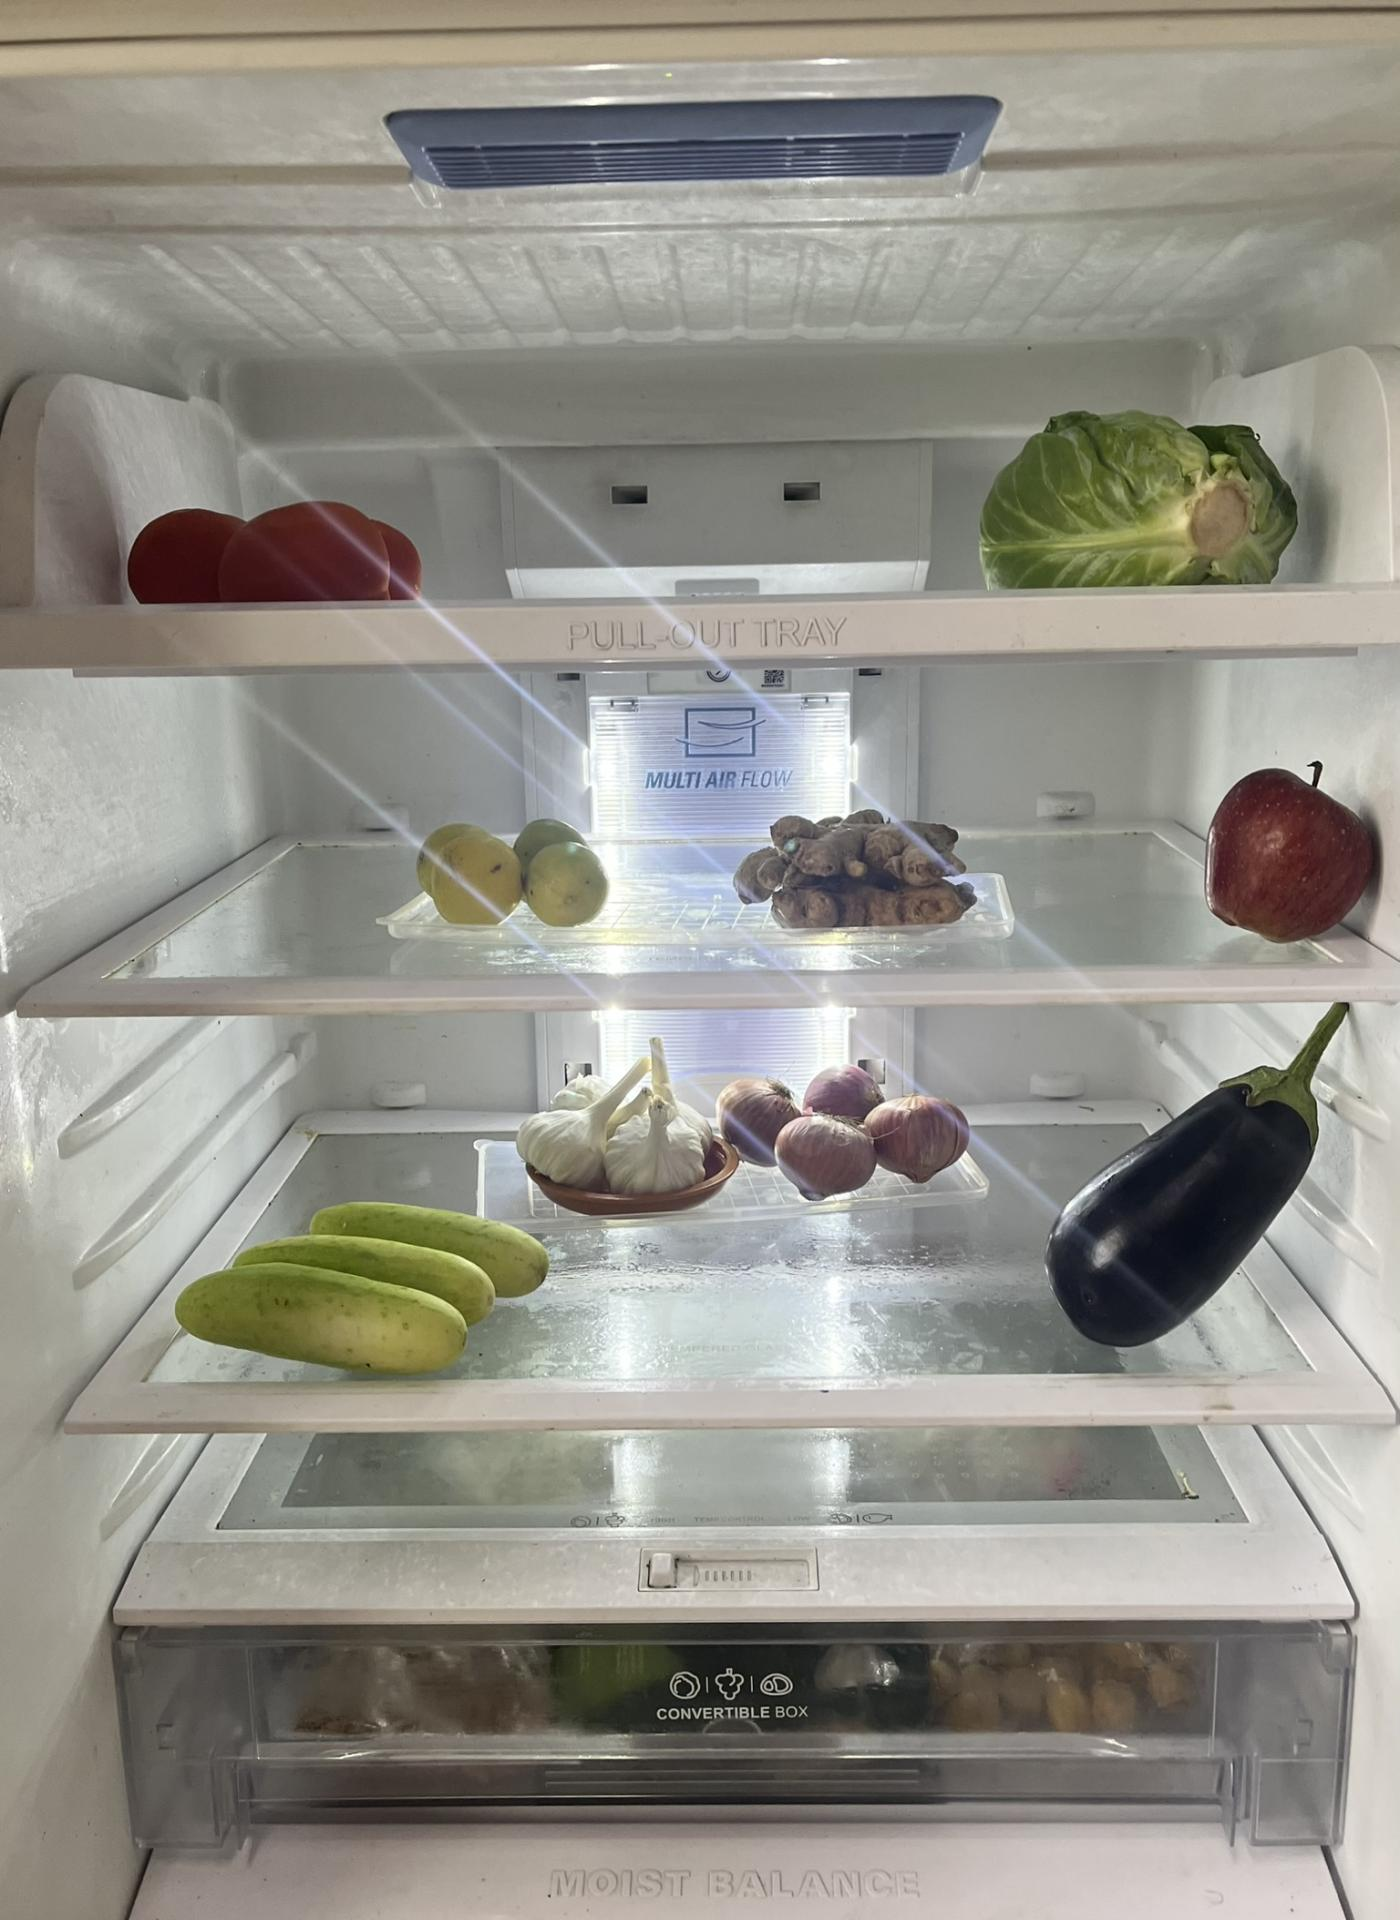apple: (1203, 766, 1373, 947)
brinjal: (1051, 999, 1348, 1346)
cabbage: (977, 407, 1297, 586)
cucumber: (168, 1199, 561, 1377)
garlic: (516, 1039, 717, 1196)
ginger: (734, 806, 981, 933)
lemon: (414, 806, 605, 926)
onion: (716, 1054, 972, 1188)
tomato: (128, 505, 419, 608)
